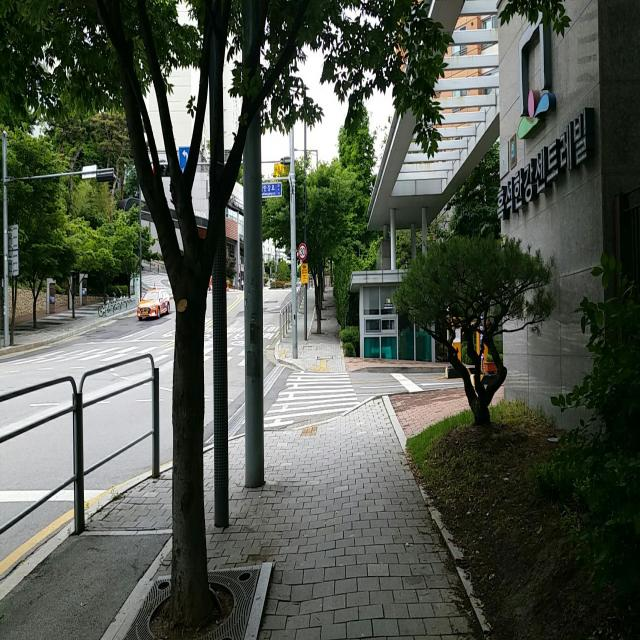횡단보도: (23, 346, 276, 374), (264, 369, 360, 429)
